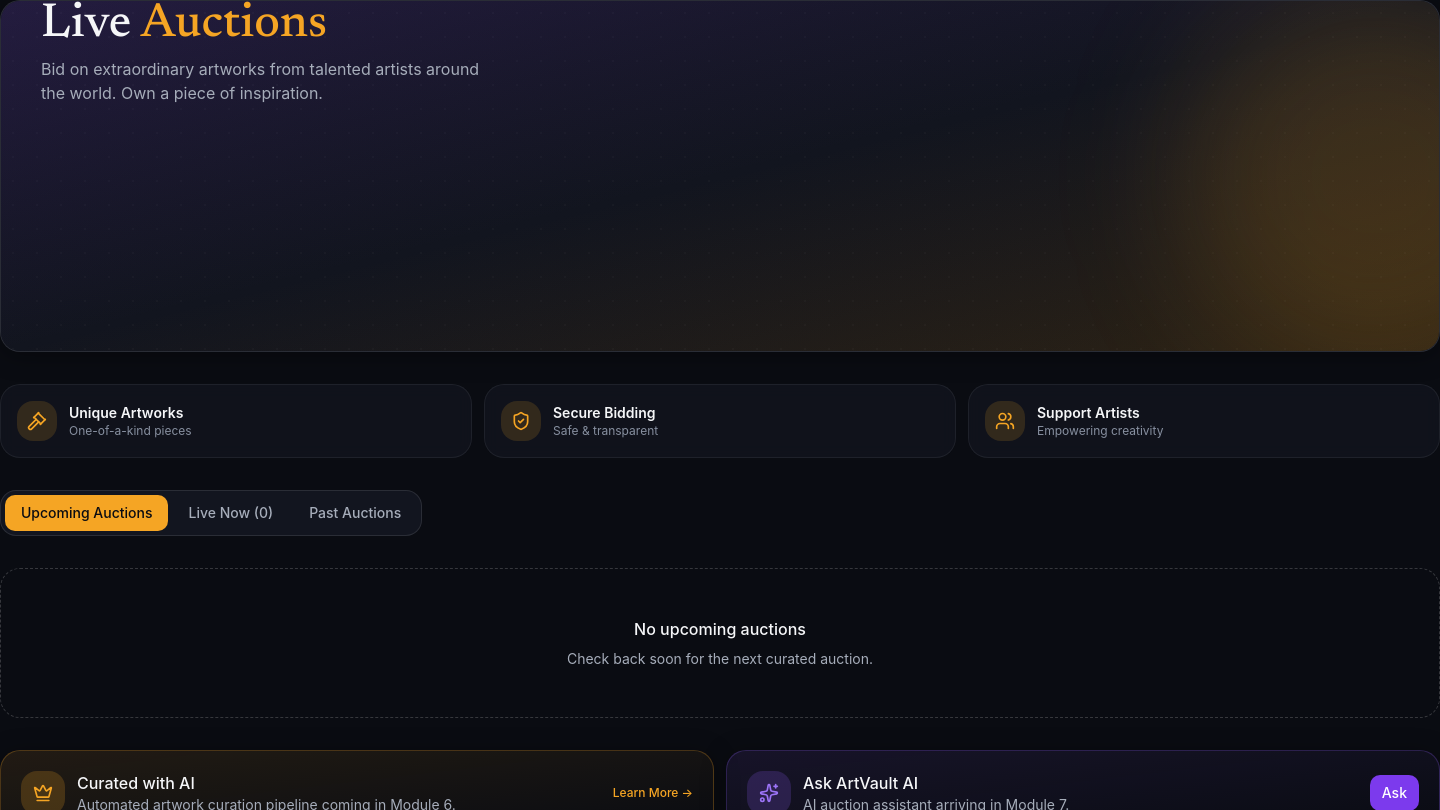
Test: AuctionsPage › shows the honest, not-connected AI entry points — never a working assistant
Expected: the text "Curated with AI" is shown, [77, 773, 195, 793]
Click the button "Ask" at x=1394, y=793, box [1370, 775, 1419, 809]
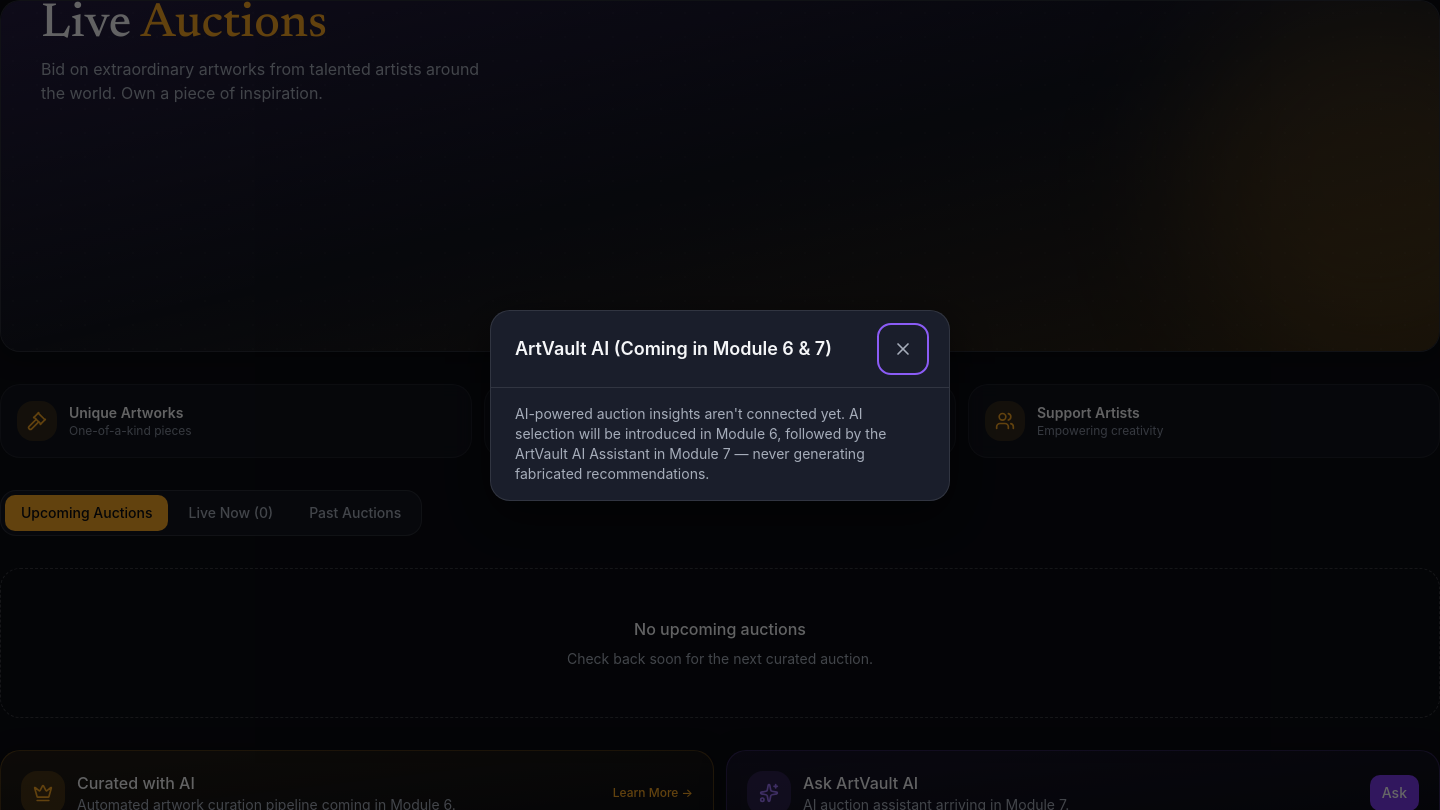
Expected: the text "AI-powered auction insights aren't connected yet" is shown, [515, 404, 886, 482]
